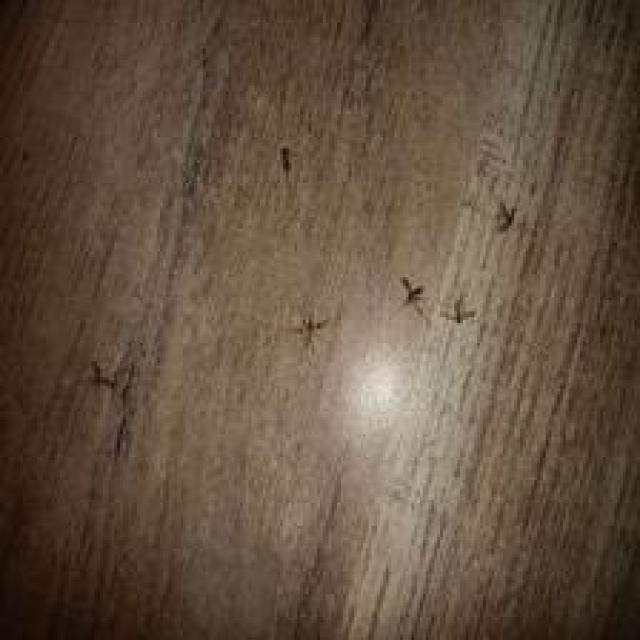Culex: (400, 274, 426, 306)
